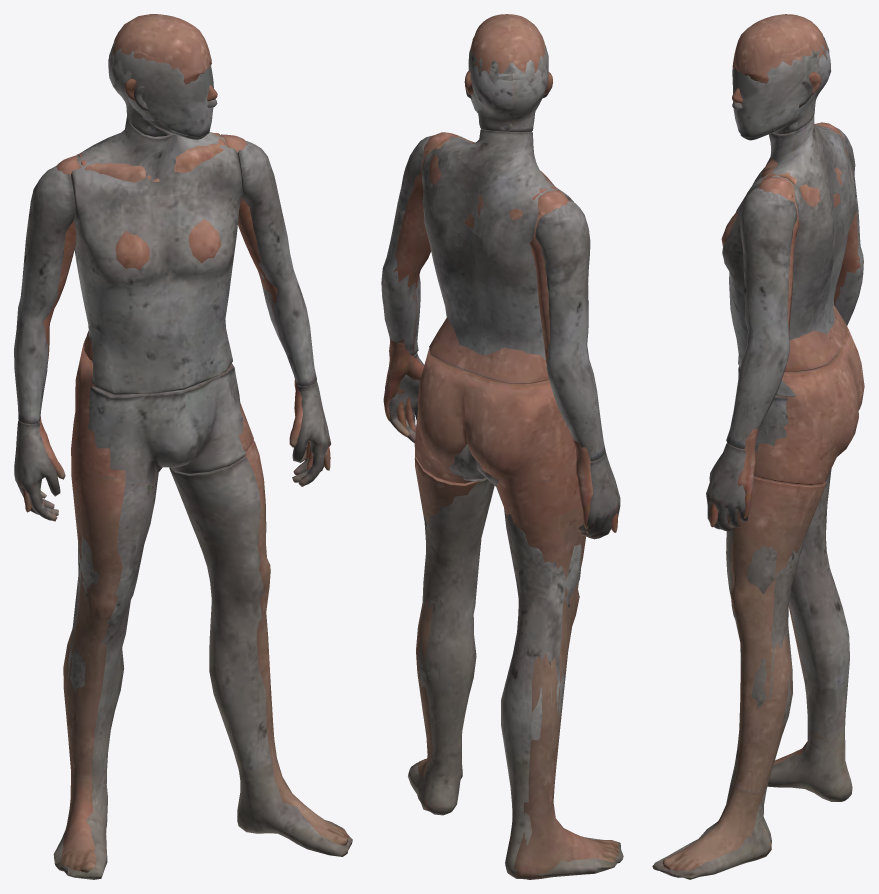
The model's file is mannequin_male_sitting_clothing_a.glb.
3 renders of one model, left to right at view 1: azimuth 30°, elevation 25°; view 2: azimuth 150°, elevation 25°; view 3: azimuth 270°, elevation 25°, orthographic. The views are drawn at different scales.
Visible parts, largest first — view 1: MannequinMaleTorso_LOD0, MannequinMaleLeg_R_LOD0, MannequinMaleLeg_L_LOD0, MannequinFemaleLeg_R_LOD0, MannequinMaleFoot_L_LOD0, MannequinMaleArm_R_LOD0, MannequinMaleArm_L_LOD0, MannequinMaleHead_A_LOD0, MannequinFemaleHead_B_LOD0, MannequinMaleNeck_LOD0, MannequinFemaleFoot_R_LOD0, MannequinMaleShoulder_R_LOD0 (+12 smaller); view 2: MannequinFemaleLeg_R_LOD0, MannequinMaleTorso_LOD0, MannequinMaleLeg_L_LOD0, MannequinMaleLeg_R_LOD0, MannequinMaleArm_R_LOD0, MannequinFemaleFoot_R_LOD0, MannequinFemaleTorso_LOD0, MannequinMaleShoulder_R_LOD0, MannequinMaleHead_B_LOD0, MannequinMaleFoot_L_LOD0, MannequinFemaleHead_B_LOD0, MannequinMaleArm_L_LOD0 (+15 smaller); view 3: MannequinFemaleLeg_L_LOD0, MannequinMaleTorso_LOD0, MannequinFemaleLeg_R_LOD0, MannequinMaleLeg_R_LOD0, MannequinMaleArm_L_LOD0, MannequinMaleFoot_R_LOD0, MannequinMaleHead_A_LOD0, MannequinFemaleFoot_L_LOD0, MannequinMaleShoulder_L_LOD0, MannequinMaleLeg_L_LOD0, MannequinFemaleHead_B_LOD0, MannequinFemaleTorso_LOD0 (+9 smaller).
Boxes of the visible parts, x1=… form: MannequinMaleTorso_LOD0: x1=71, y1=132, x2=242, y2=394; MannequinMaleLeg_R_LOD0: x1=65, y1=363, x2=247, y2=741; MannequinMaleLeg_L_LOD0: x1=169, y1=456, x2=266, y2=734; MannequinFemaleLeg_R_LOD0: x1=63, y1=343, x2=253, y2=741; MannequinMaleFoot_L_LOD0: x1=227, y1=727, x2=352, y2=856; MannequinMaleArm_R_LOD0: x1=14, y1=240, x2=63, y2=424; MannequinMaleArm_L_LOD0: x1=253, y1=210, x2=316, y2=386; MannequinMaleHead_A_LOD0: x1=109, y1=41, x2=213, y2=137; MannequinFemaleHead_B_LOD0: x1=112, y1=14, x2=217, y2=101; MannequinMaleNeck_LOD0: x1=105, y1=117, x2=200, y2=196; MannequinFemaleFoot_R_LOD0: x1=60, y1=733, x2=96, y2=872; MannequinMaleShoulder_R_LOD0: x1=26, y1=166, x2=75, y2=256; MannequinFemaleLeg_R_LOD0: x1=414, y1=349, x2=585, y2=775; MannequinMaleTorso_LOD0: x1=421, y1=136, x2=573, y2=376; MannequinMaleLeg_L_LOD0: x1=418, y1=478, x2=494, y2=723; MannequinMaleLeg_R_LOD0: x1=449, y1=444, x2=581, y2=775; MannequinMaleArm_R_LOD0: x1=546, y1=284, x2=605, y2=461; MannequinFemaleFoot_R_LOD0: x1=514, y1=767, x2=619, y2=879; MannequinFemaleTorso_LOD0: x1=429, y1=135, x2=557, y2=383; MannequinMaleShoulder_R_LOD0: x1=535, y1=199, x2=590, y2=293; MannequinMaleHead_B_LOD0: x1=465, y1=64, x2=548, y2=131; MannequinMaleFoot_L_LOD0: x1=408, y1=714, x2=465, y2=815; MannequinFemaleHead_B_LOD0: x1=464, y1=14, x2=552, y2=94; MannequinMaleArm_L_LOD0: x1=381, y1=202, x2=431, y2=355; MannequinFemaleLeg_L_LOD0: x1=730, y1=477, x2=826, y2=757; MannequinMaleTorso_LOD0: x1=722, y1=125, x2=856, y2=396; MannequinFemaleLeg_R_LOD0: x1=754, y1=323, x2=864, y2=681; MannequinMaleLeg_R_LOD0: x1=738, y1=366, x2=849, y2=706; MannequinMaleArm_L_LOD0: x1=726, y1=269, x2=789, y2=448; MannequinMaleFoot_R_LOD0: x1=767, y1=696, x2=852, y2=801; MannequinMaleHead_A_LOD0: x1=732, y1=36, x2=829, y2=137; MannequinFemaleFoot_L_LOD0: x1=662, y1=751, x2=775, y2=870; MannequinMaleShoulder_L_LOD0: x1=740, y1=186, x2=797, y2=274; MannequinMaleLeg_L_LOD0: x1=726, y1=528, x2=808, y2=755; MannequinFemaleHead_B_LOD0: x1=732, y1=14, x2=827, y2=103; MannequinFemaleTorso_LOD0: x1=721, y1=125, x2=848, y2=372.
Bounding box in the file's own units: 0.5989 × 1.76 × 0.4231.
Materials: 1 (1 with a texture image).
